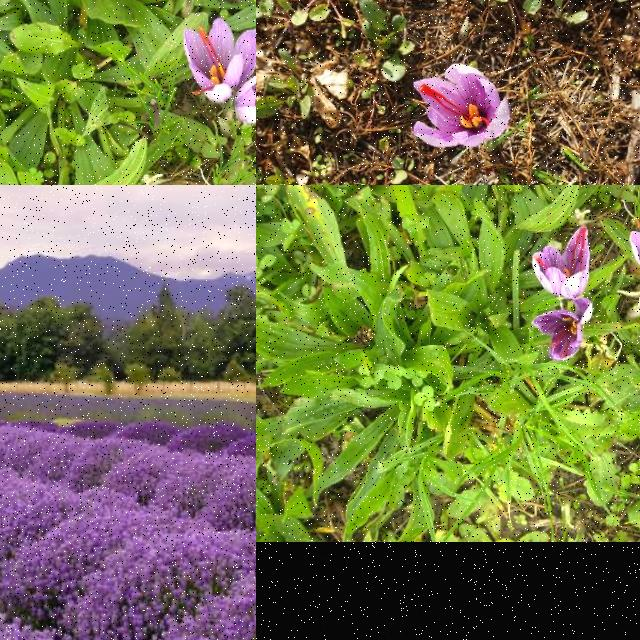flower: (412, 63, 512, 149), (183, 18, 256, 104), (532, 225, 590, 299), (531, 298, 593, 362), (234, 74, 256, 124)
